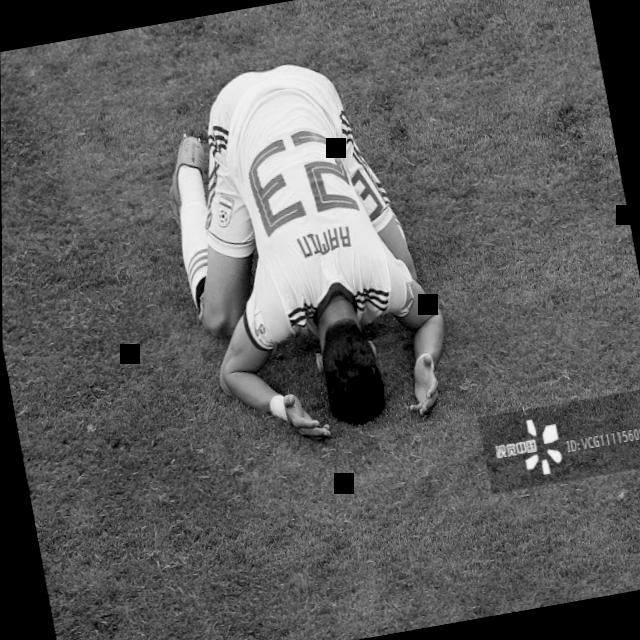Fall-Detected: (137, 30, 475, 473)
